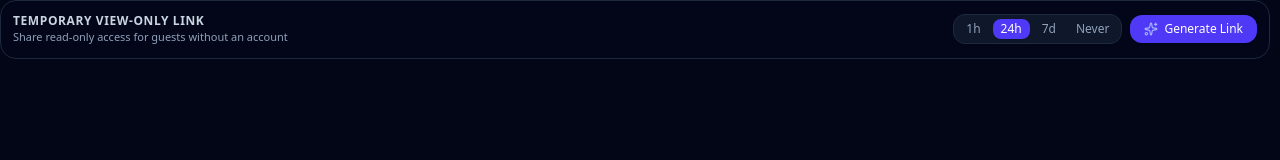
Scenario: TemporaryLinkGenerator Component › resets and revokes link when Reset button is clicked
Click the button "Generate Link" at coordinates (1194, 29), box [1130, 15, 1257, 43]
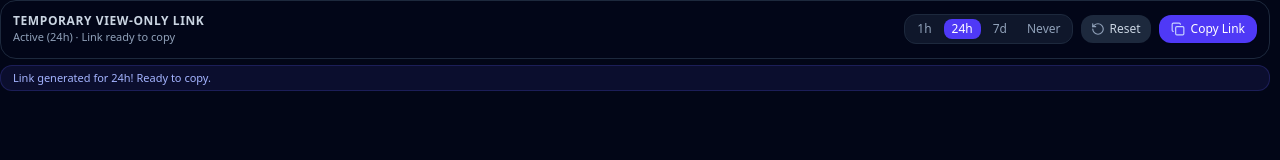
Now the button "Reset" is shown
Click the button "Reset" at coordinates (1116, 29), box [1082, 15, 1151, 43]
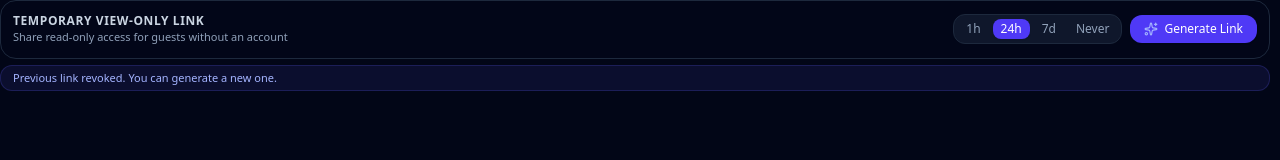
Now the button "Generate Link" is shown, box [1130, 15, 1257, 43]
Now the button "Copy Link" is gone
